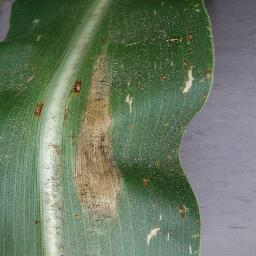Corn_Blight: (61, 50, 121, 215), (132, 224, 199, 254), (172, 61, 210, 98), (166, 199, 208, 224), (168, 26, 201, 49), (134, 167, 165, 188), (27, 97, 46, 131), (29, 212, 53, 231), (123, 86, 139, 108)
